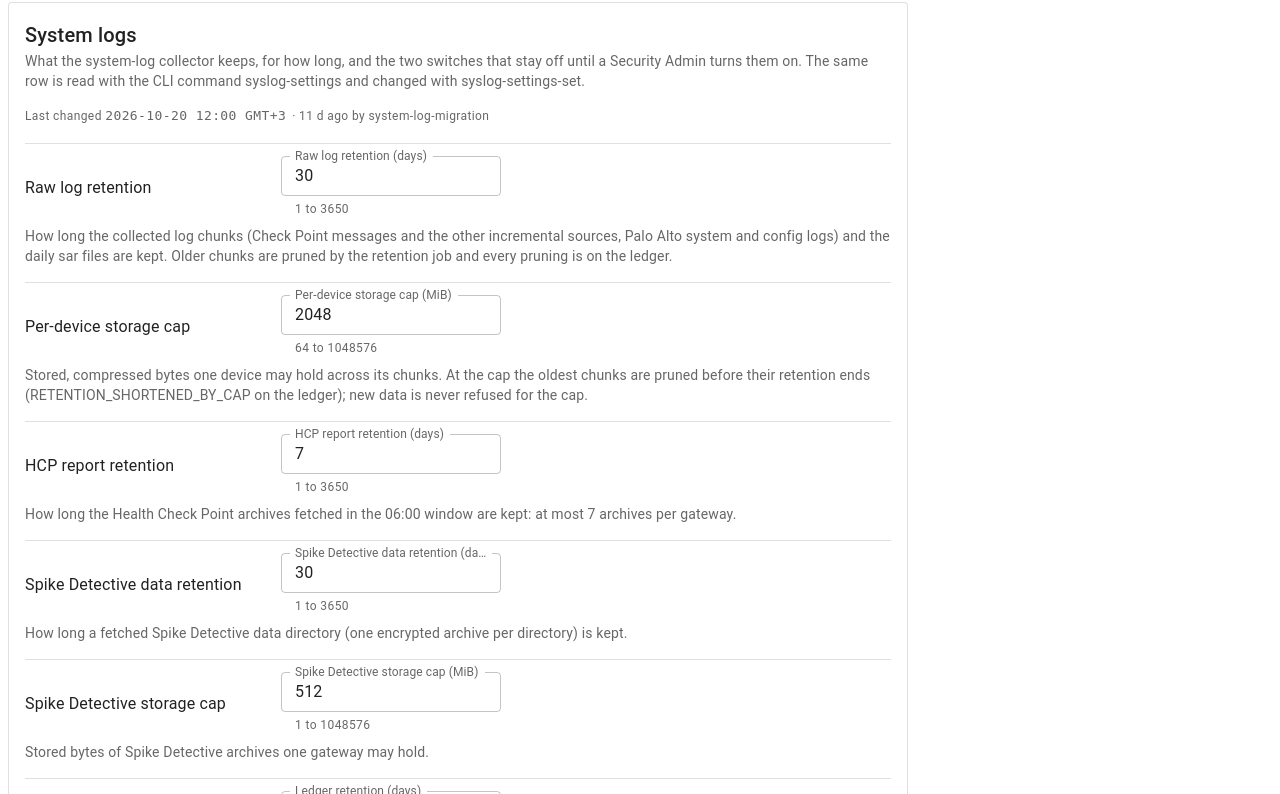
Test: SystemLogSettingsPanel › a retention or cap change saves directly, sends bytes for a MiB field, and shows the service's problems when refused
Replace the text in the number field labelled "Raw log retention (days)" with "45" at (391, 176), box [281,156,501,196]
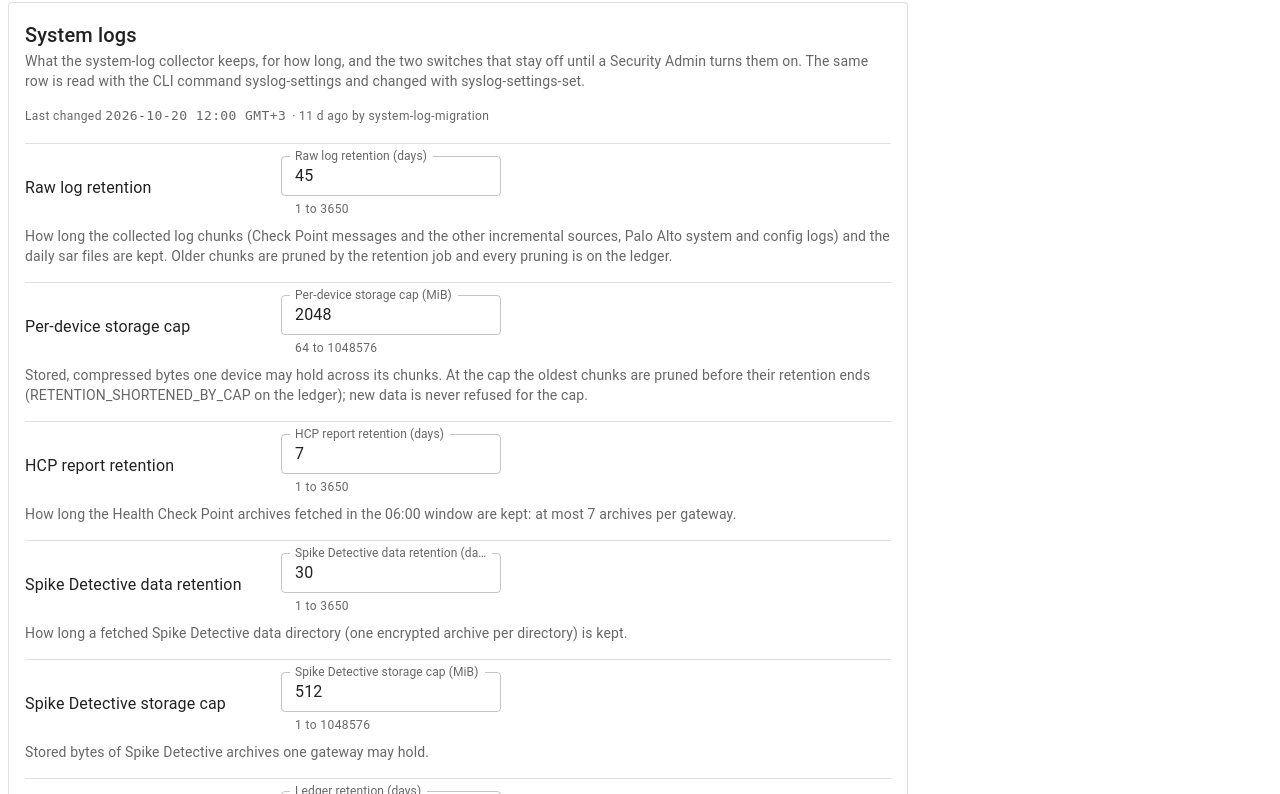
Replace the text in the number field labelled "Spike Detective storage cap (MiB)" with "1024" at (391, 692), box [281,672,501,712]
(page scrolled)
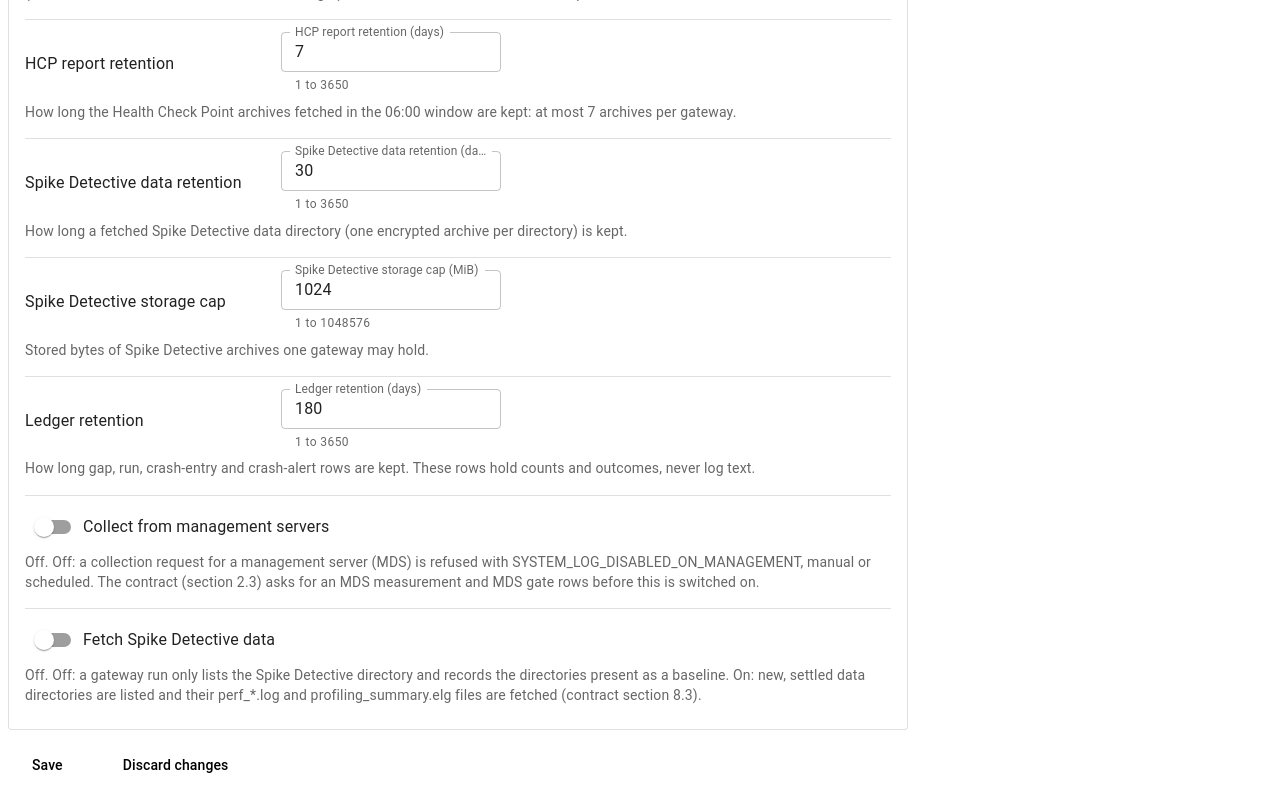
Click the button "Save" at (47, 766), box [8,746,87,786]
(page scrolled)
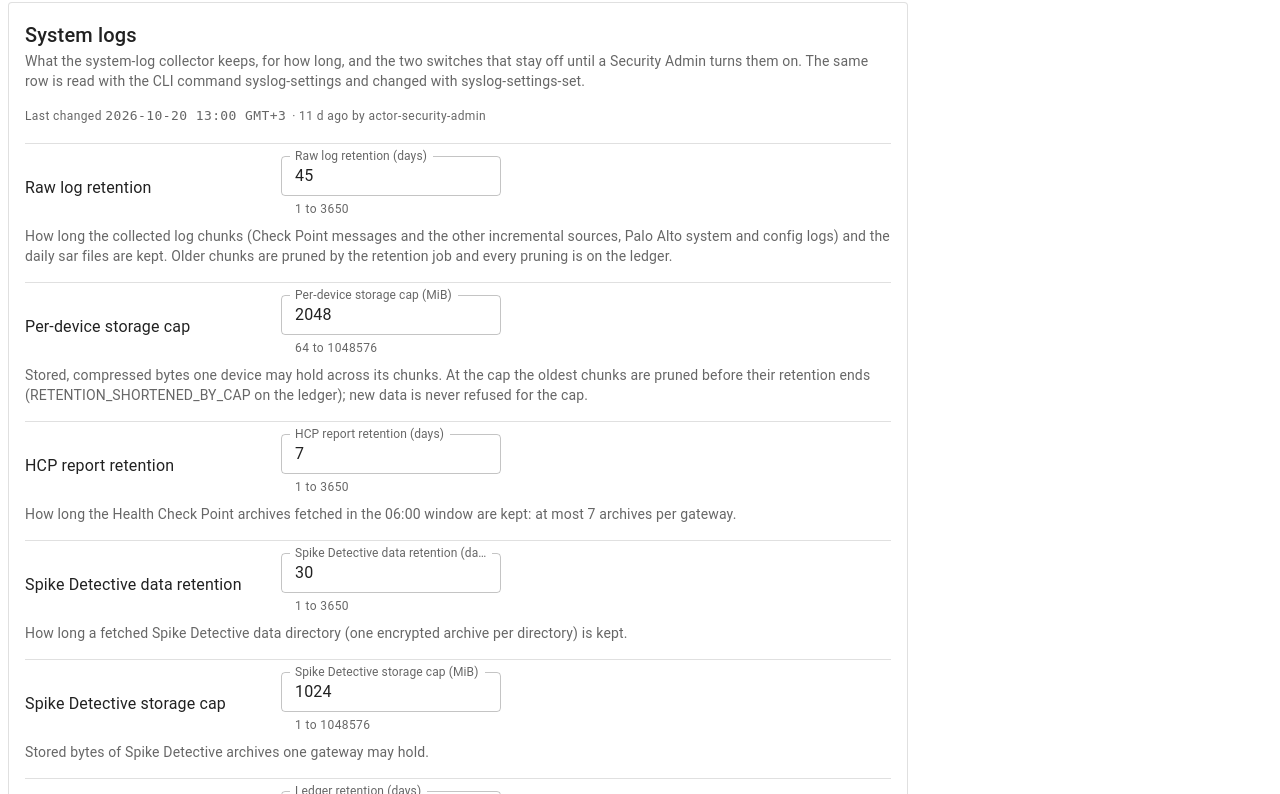
Replace the text in the number field labelled "Raw log retention (days)" with "0" at (391, 176), box [281,156,501,196]
(page scrolled)
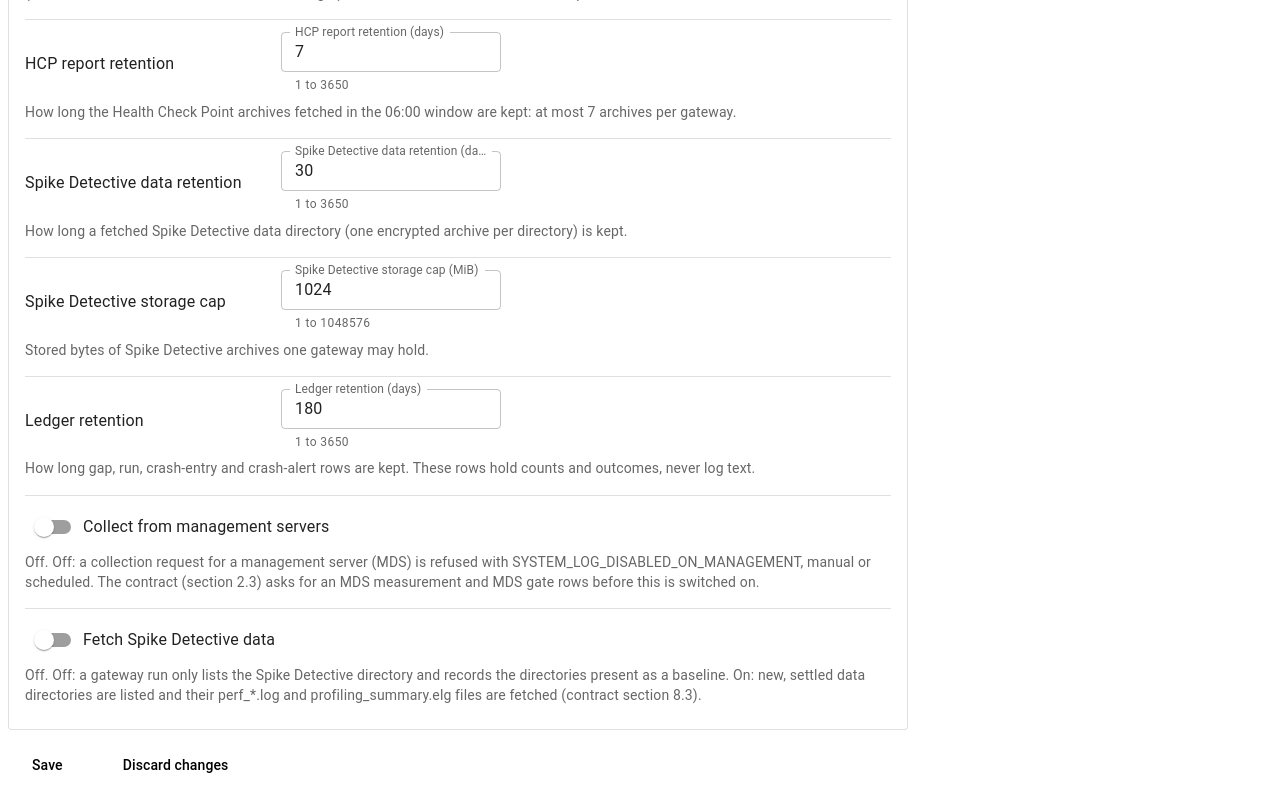
Click the button "Save" at (47, 766), box [8,746,87,786]
(page scrolled)
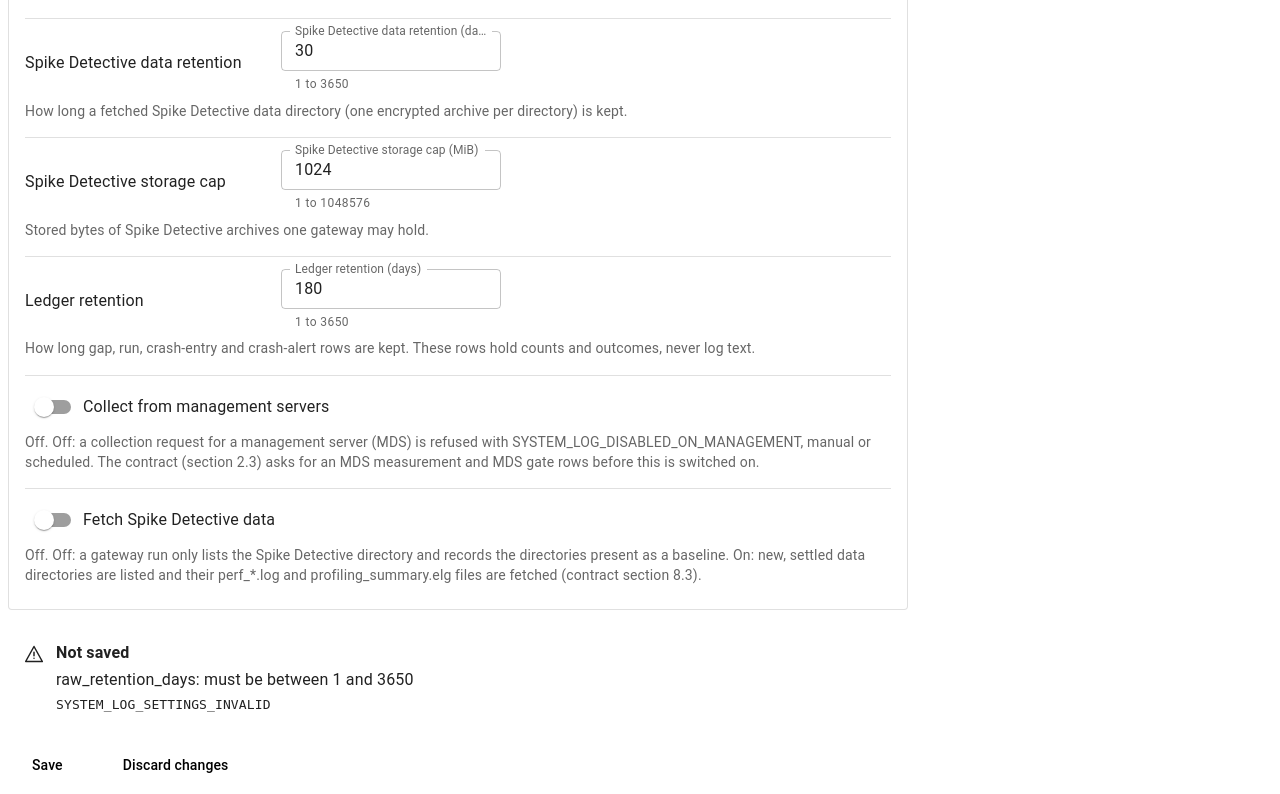
expect the text "Not saved" shows "raw_retention_days: must be between 1 and 3650": met, box [56,670,414,689]
